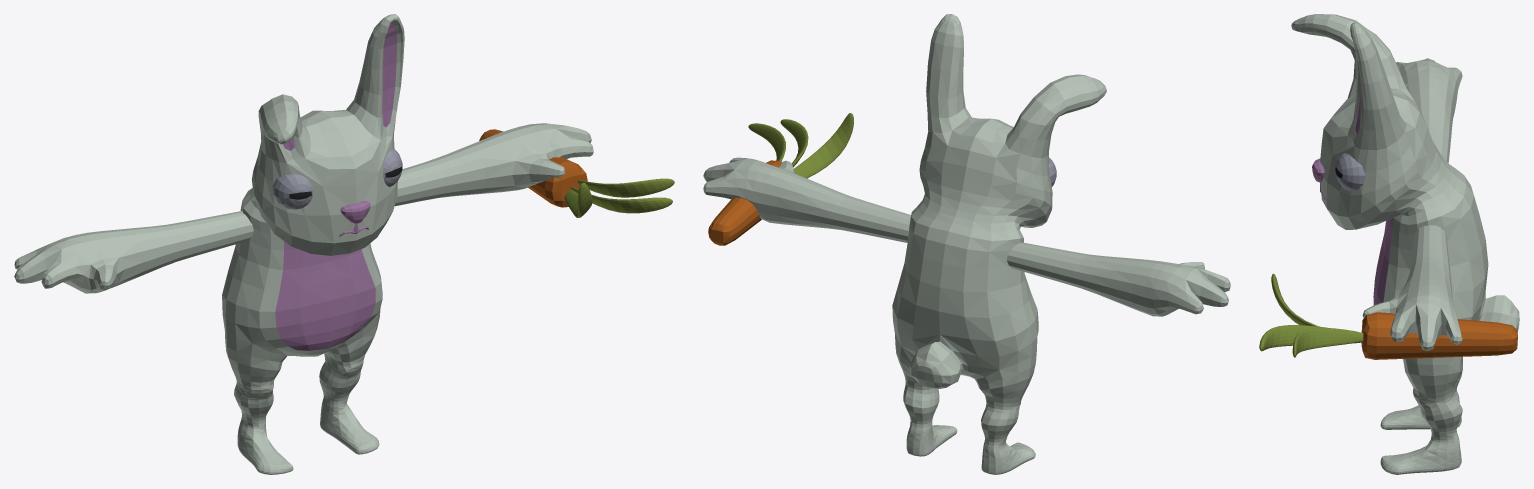
Rendered from hare.glb.
The picture shows the model from 3 angles, left to right: view 1: azimuth 30°, elevation 25°; view 2: azimuth 150°, elevation 25°; view 3: azimuth 270°, elevation 25°; orthographic projection. The views are drawn at different scales.
Visible parts, largest first — view 1: SK_Bunny.usda; view 2: SK_Bunny.usda; view 3: SK_Bunny.usda.
Boxes of the visible parts, x1,y1,x2,y2 form: SK_Bunny.usda: (14, 14, 674, 474); SK_Bunny.usda: (703, 14, 1230, 474); SK_Bunny.usda: (1259, 14, 1519, 474).
Bounding box in the file's own units: 4.79 × 3.44 × 1.81.
Materials: 1 (1 with a texture image).
